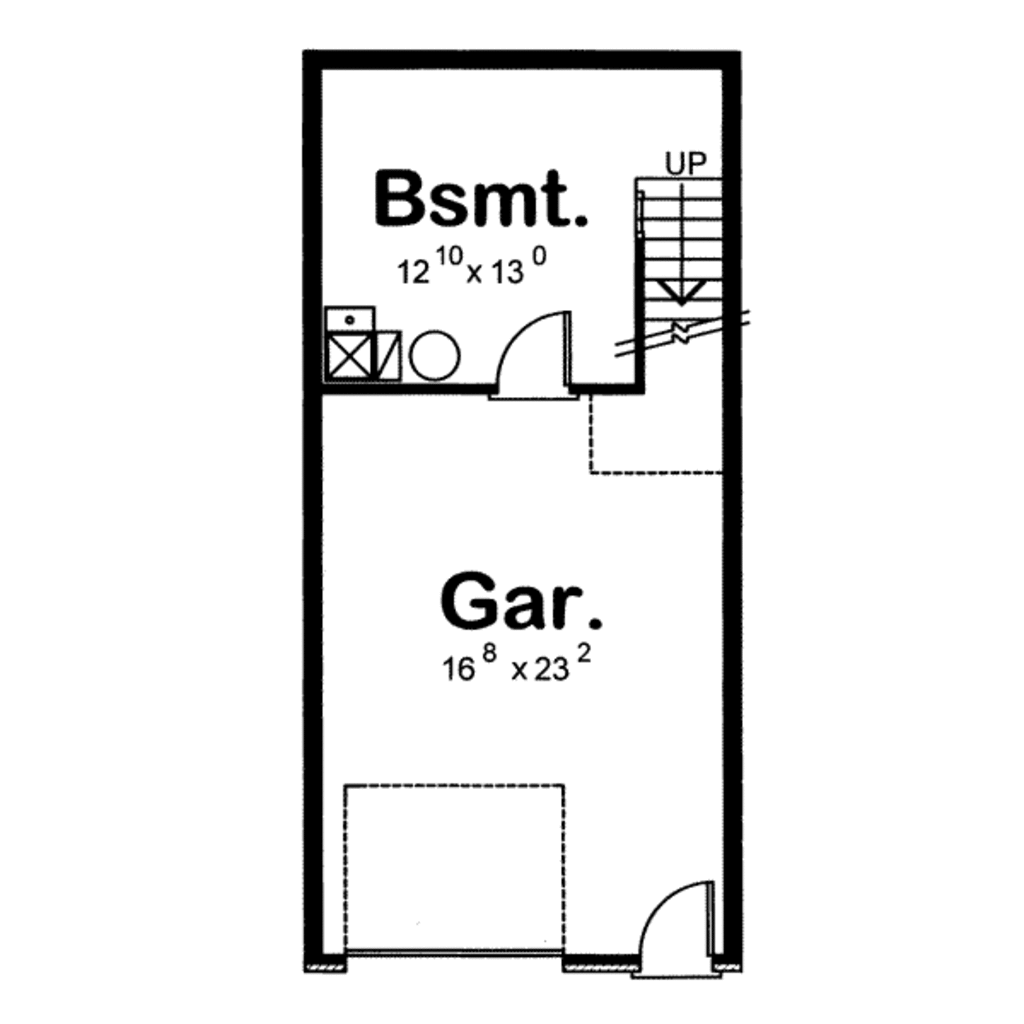door: (475, 302, 583, 405), (628, 878, 727, 982)
stairs: (602, 152, 744, 403)
